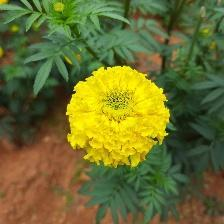marigold: (67, 64, 173, 172)
